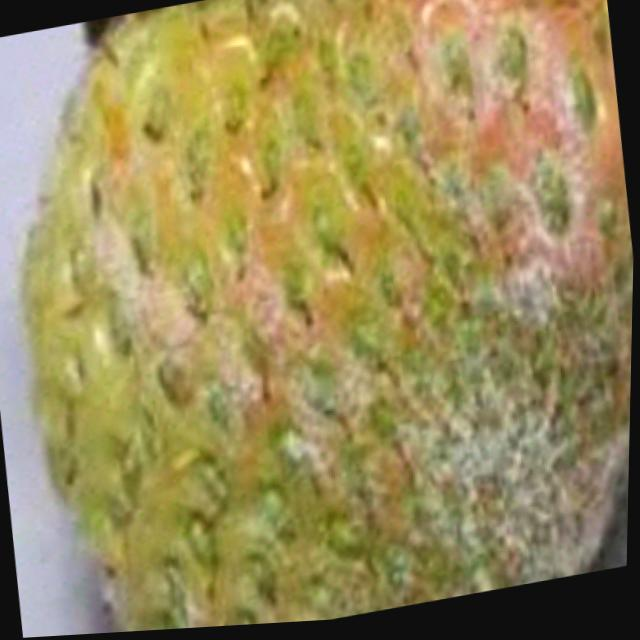Powdery Mildew Fruit: (68, 0, 635, 634)
